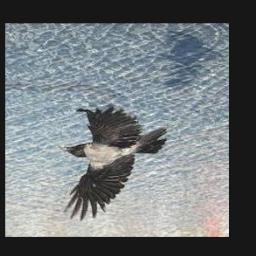Crow: (61, 108, 168, 222)
